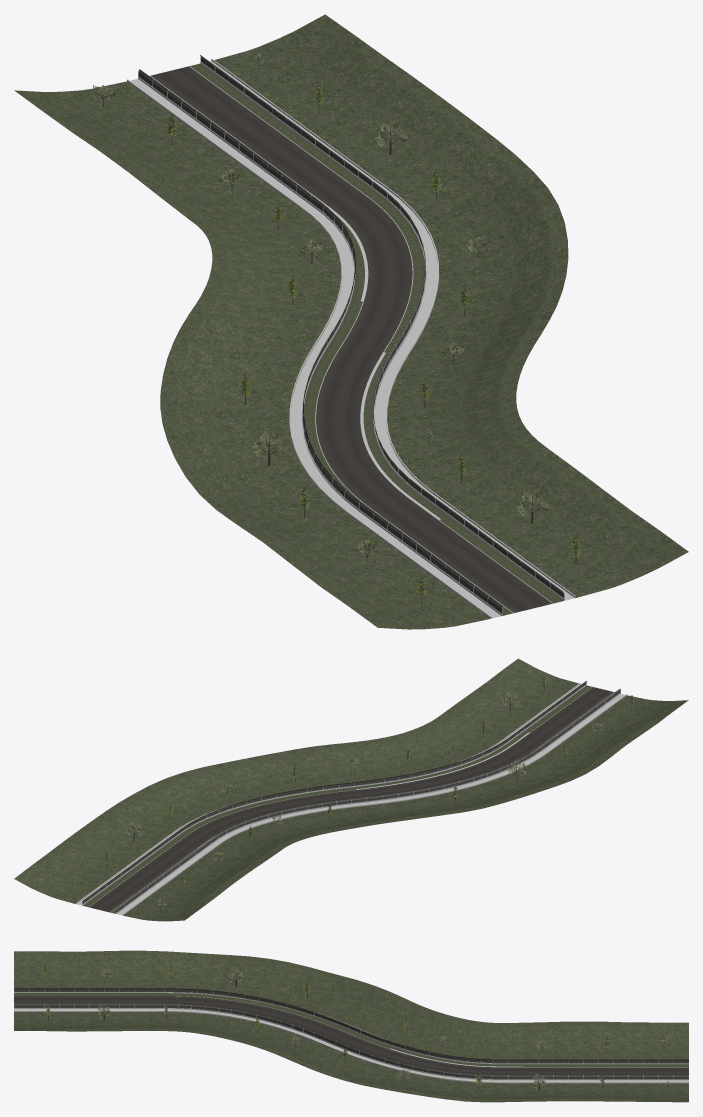
The picture shows the model from 3 angles, top to bottom: view 1: azimuth 30°, elevation 25°; view 2: azimuth 150°, elevation 25°; view 3: azimuth 270°, elevation 25°; orthographic projection. The views are drawn at different scales.
Parts seen in each view (by area): view 1: Grass_Grass.004, Road_Road.004, Track_Track.013, Wirefence_Wirefence.004, Trees_Tree-B-04.003; view 2: Grass_Grass.004, Road_Road.004, Track_Track.013, Wirefence_Wirefence.004, Trees_Tree-B-04.003; view 3: Grass_Grass.004, Wirefence_Wirefence.004, Road_Road.004, Track_Track.013, Trees_Tree-B-04.003.
Boxes of the visible parts, x1=… form: Grass_Grass.004: x1=14, y1=14, x2=688, y2=629; Road_Road.004: x1=150, y1=66, x2=552, y2=612; Track_Track.013: x1=127, y1=59, x2=575, y2=618; Wirefence_Wirefence.004: x1=138, y1=55, x2=563, y2=613; Trees_Tree-B-04.003: x1=90, y1=52, x2=581, y2=604; Grass_Grass.004: x1=14, y1=658, x2=688, y2=921; Road_Road.004: x1=89, y1=687, x2=613, y2=912; Track_Track.013: x1=76, y1=683, x2=626, y2=915; Wirefence_Wirefence.004: x1=82, y1=681, x2=620, y2=912; Trees_Tree-B-04.003: x1=69, y1=676, x2=634, y2=910; Grass_Grass.004: x1=14, y1=950, x2=688, y2=1102; Wirefence_Wirefence.004: x1=14, y1=988, x2=688, y2=1079; Road_Road.004: x1=14, y1=996, x2=688, y2=1074; Track_Track.013: x1=14, y1=988, x2=688, y2=1083; Trees_Tree-B-04.003: x1=42, y1=963, x2=670, y2=1091.
Size of the model in its own units: 1590 by 102 by 3000.
